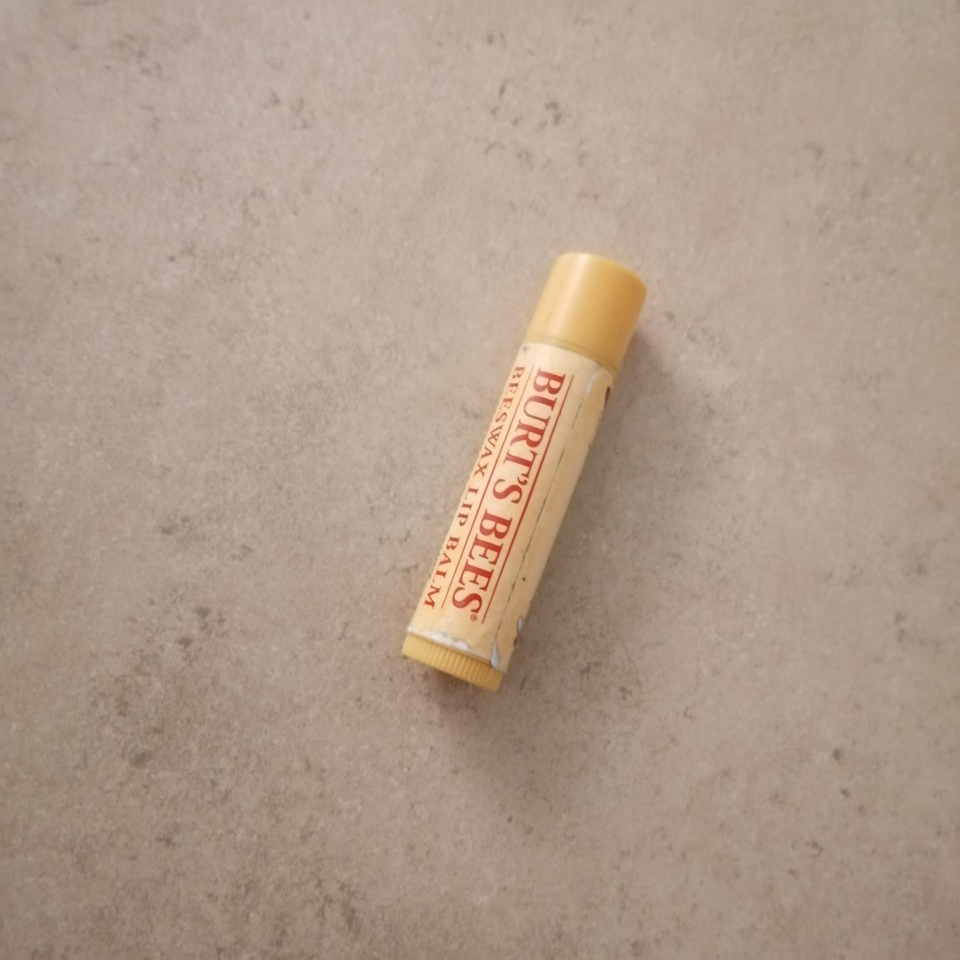chapstick: (400, 251, 649, 697)
